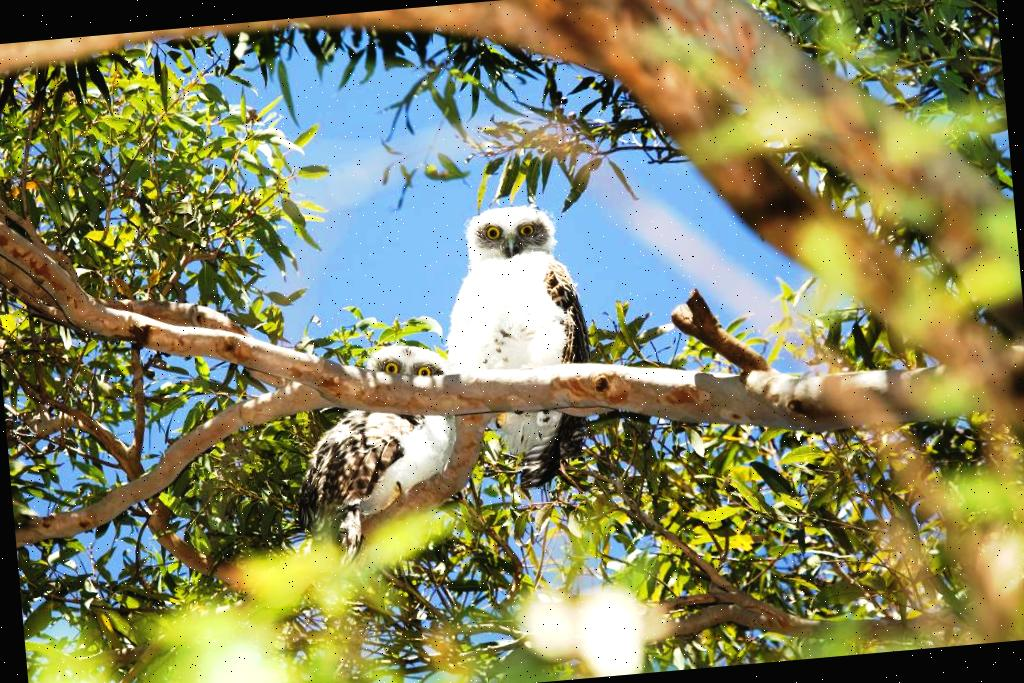Owl: (427, 197, 607, 494), (279, 339, 465, 568)
